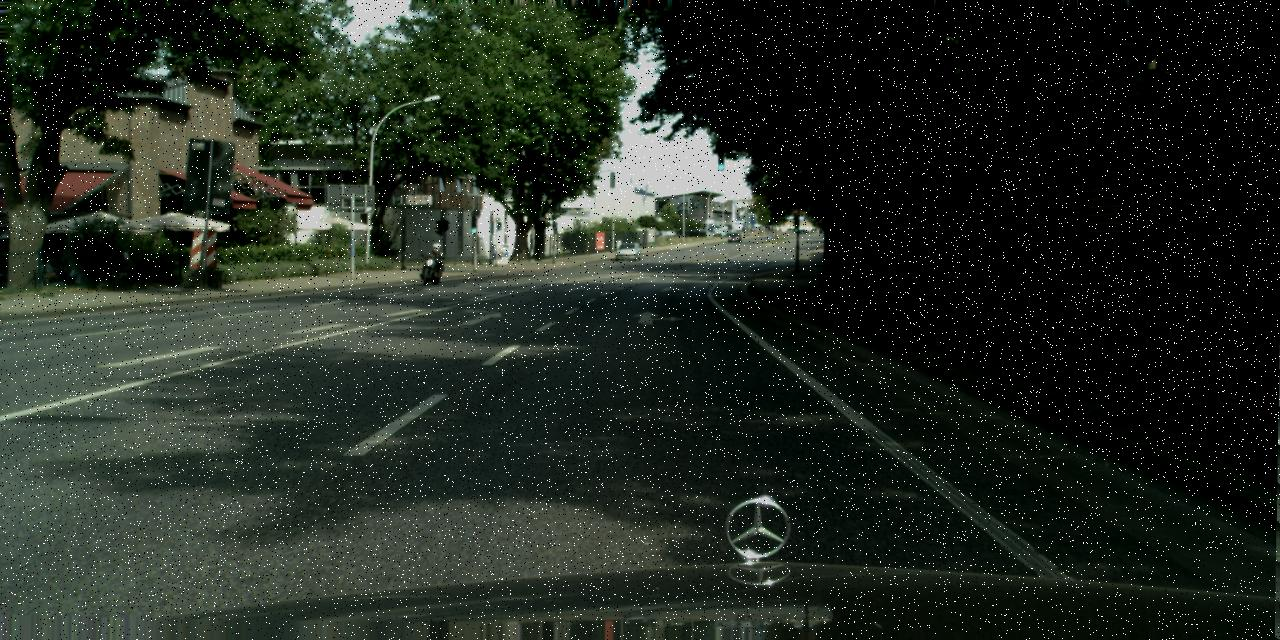ped: (426, 242, 440, 278)
